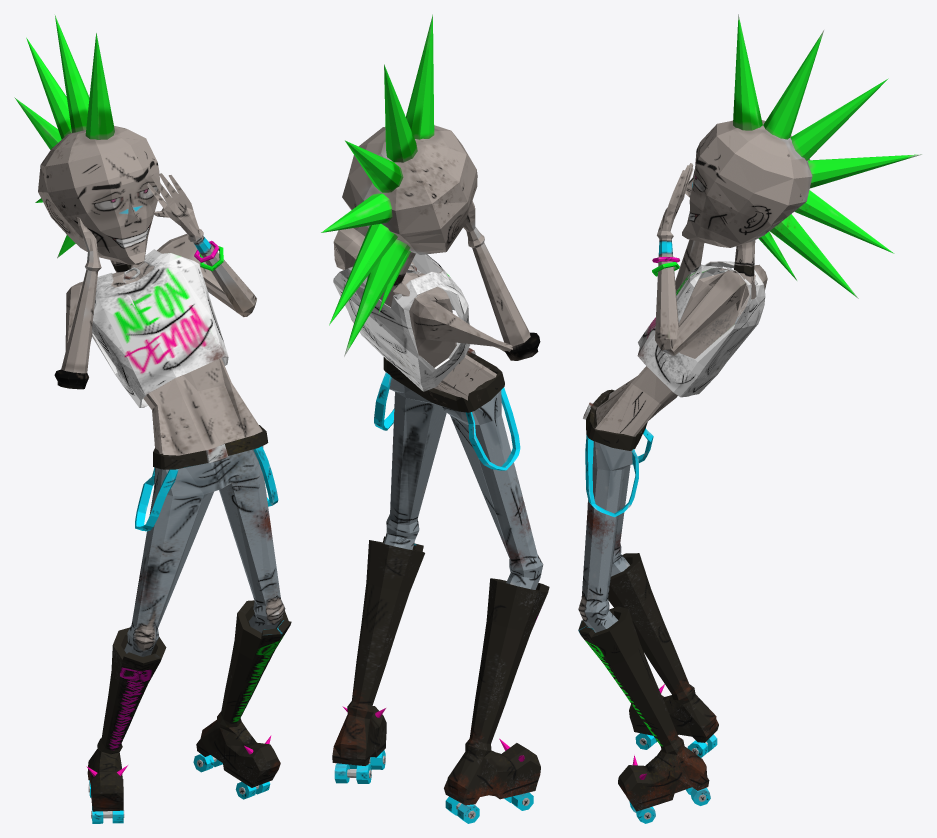
File: punkAnimation_000013.obj
3 views of the same model, side by side, from view 1: azimuth 30°, elevation 25°; view 2: azimuth 150°, elevation 25°; view 3: azimuth 270°, elevation 25° (orthographic). The views are drawn at different scales.
Parts seen in each view (by area): view 1: Cube.004_Cube.003; view 2: Cube.004_Cube.003; view 3: Cube.004_Cube.003.
Part boxes in pixels (x1,y1,x2,y2): Cube.004_Cube.003: (14, 15, 291, 823); Cube.004_Cube.003: (321, 14, 549, 823); Cube.004_Cube.003: (578, 14, 921, 823).
Bounding box in the file's own units: 1.94 × 7.11 × 2.96.
